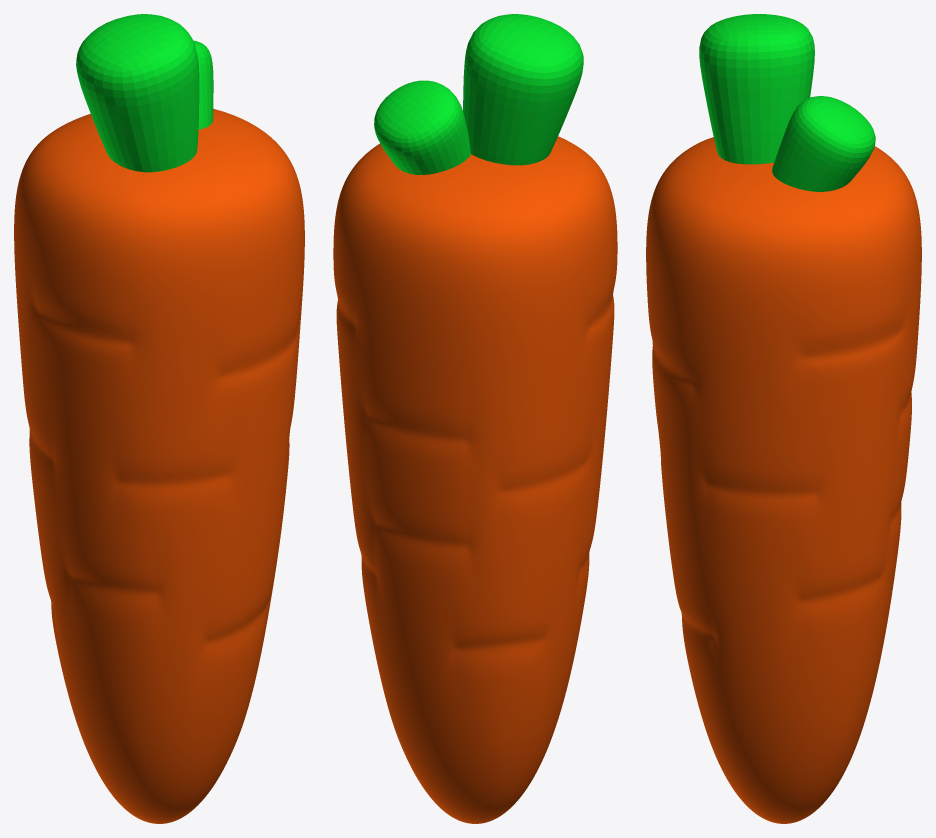
Rendered from wortel.fbx.
3 views of the same model, side by side, from view 1: azimuth 30°, elevation 25°; view 2: azimuth 150°, elevation 25°; view 3: azimuth 270°, elevation 25° (orthographic). The views are drawn at different scales.
Parts seen in each view (by area): view 1: Cube, Cube.001, Cube.002; view 2: Cube, Cube.001, Cube.002; view 3: Cube, Cube.001, Cube.002.
Part boxes in pixels (x1=…): Cube: x1=14, y1=109, x2=304, y2=823; Cube.001: x1=76, y1=14, x2=199, y2=172; Cube.002: x1=193, y1=40, x2=213, y2=129; Cube: x1=333, y1=136, x2=617, y2=823; Cube.001: x1=463, y1=14, x2=583, y2=165; Cube.002: x1=374, y1=80, x2=470, y2=174; Cube: x1=646, y1=137, x2=921, y2=823; Cube.001: x1=699, y1=14, x2=814, y2=164; Cube.002: x1=772, y1=96, x2=875, y2=191.
Size of the model in its own units: 176 by 554 by 176.
